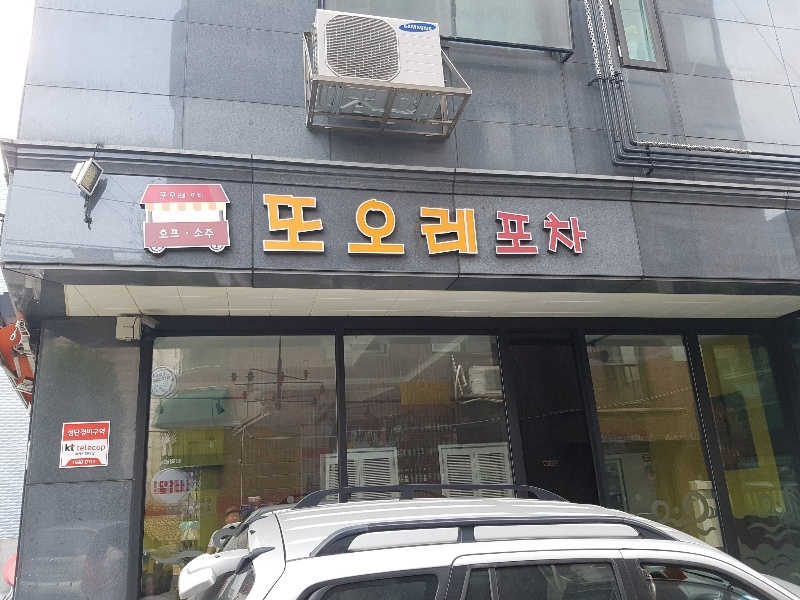text: (465, 192, 481, 258), (273, 192, 288, 258), (289, 192, 304, 258), (305, 192, 320, 258), (321, 192, 336, 258), (337, 192, 352, 258), (353, 192, 368, 258), (369, 192, 384, 258), (385, 192, 400, 258), (401, 192, 416, 258), (417, 192, 432, 258), (433, 192, 448, 258), (449, 192, 464, 258), (497, 209, 512, 259), (513, 209, 528, 259), (529, 209, 544, 259), (545, 209, 560, 259), (561, 209, 576, 259), (261, 192, 272, 258), (577, 209, 591, 259), (161, 477, 176, 497), (177, 477, 190, 497), (161, 229, 176, 239), (161, 191, 176, 201), (81, 428, 96, 438), (195, 228, 208, 239), (153, 477, 160, 497), (161, 458, 176, 466), (65, 444, 80, 452), (68, 428, 80, 438), (417, 24, 432, 31), (81, 459, 96, 466), (81, 445, 96, 452), (494, 209, 496, 259), (403, 24, 416, 31), (177, 191, 186, 201), (97, 428, 106, 438), (193, 192, 204, 199), (81, 452, 95, 457), (209, 228, 215, 239), (97, 445, 106, 452), (73, 459, 80, 466), (177, 229, 181, 239), (177, 458, 182, 466), (75, 452, 80, 457), (77, 445, 80, 452), (190, 192, 192, 199), (159, 229, 160, 239), (159, 191, 160, 201)
